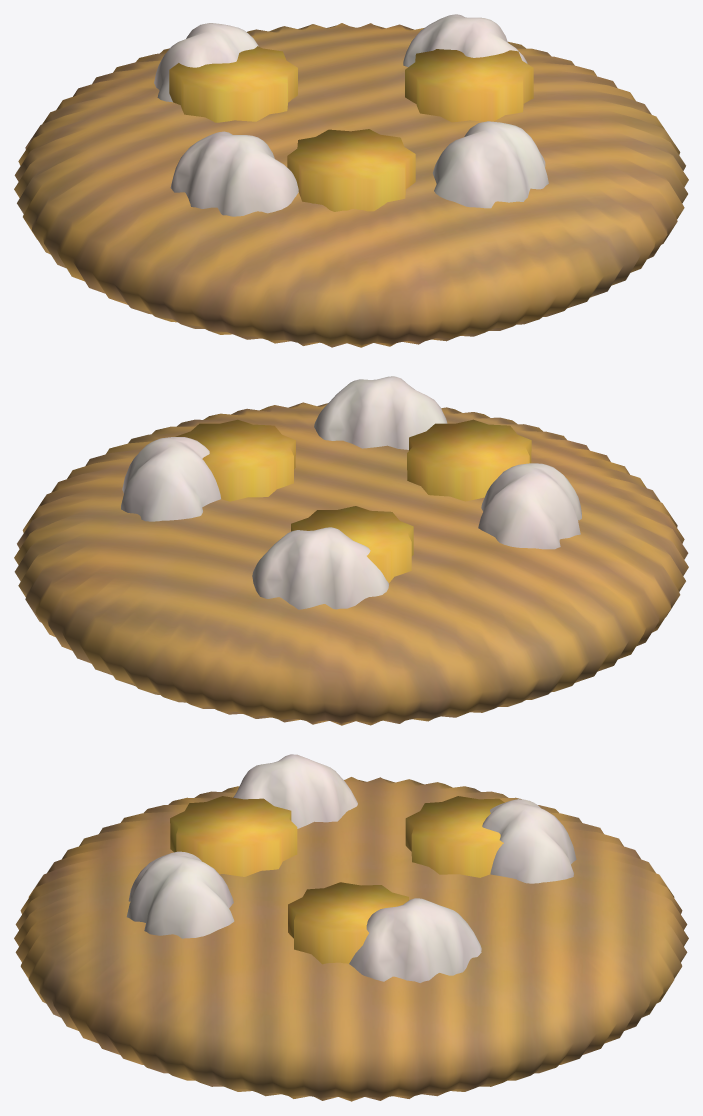
The model's file is dim-sum-platter-balanced.glb.
3 renders of one model, top to bottom at view 1: azimuth 30°, elevation 25°; view 2: azimuth 150°, elevation 25°; view 3: azimuth 270°, elevation 25°, orthographic.
Parts seen in each view (by area): view 1: Mesh_Bamboo_Steamer_Basket, Mesh_Fluted_Golden_Siu_Mai, Mesh_Pleated_Crystal_Har_Gow; view 2: Mesh_Bamboo_Steamer_Basket, Mesh_Pleated_Crystal_Har_Gow, Mesh_Fluted_Golden_Siu_Mai; view 3: Mesh_Bamboo_Steamer_Basket, Mesh_Pleated_Crystal_Har_Gow, Mesh_Fluted_Golden_Siu_Mai.
Boxes of the visible parts, x1,y1,x2,y2 form: Mesh_Bamboo_Steamer_Basket: (14, 23, 688, 347); Mesh_Fluted_Golden_Siu_Mai: (169, 46, 533, 211); Mesh_Pleated_Crystal_Har_Gow: (154, 14, 548, 216); Mesh_Bamboo_Steamer_Basket: (14, 402, 688, 725); Mesh_Pleated_Crystal_Har_Gow: (121, 376, 581, 609); Mesh_Fluted_Golden_Siu_Mai: (175, 419, 531, 582); Mesh_Bamboo_Steamer_Basket: (14, 777, 688, 1101); Mesh_Pleated_Crystal_Har_Gow: (126, 754, 576, 982); Mesh_Fluted_Golden_Siu_Mai: (170, 796, 504, 964).
Bounding box in the file's own units: 2.2 × 0.65 × 2.2.
4 materials, 4 textured.
